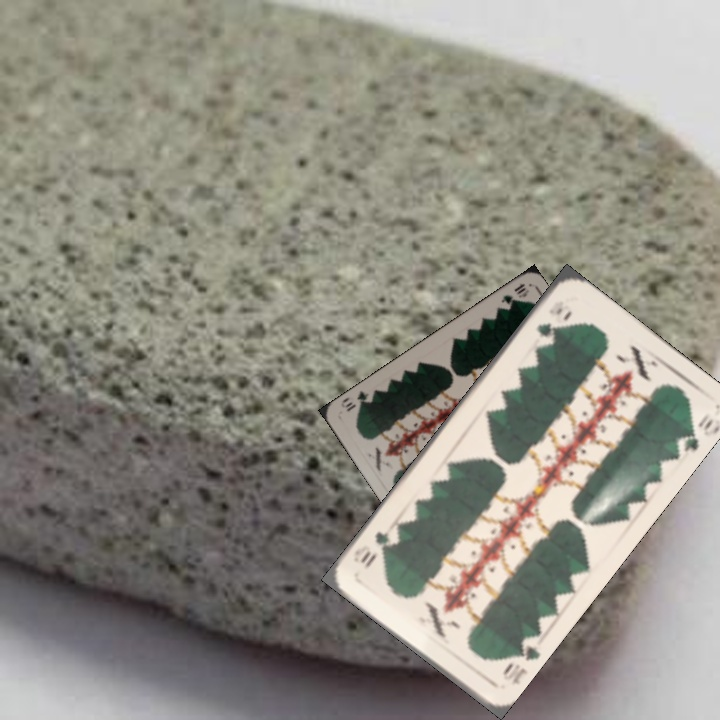G10: (498, 632, 542, 687), (532, 303, 566, 340), (497, 279, 532, 309)
